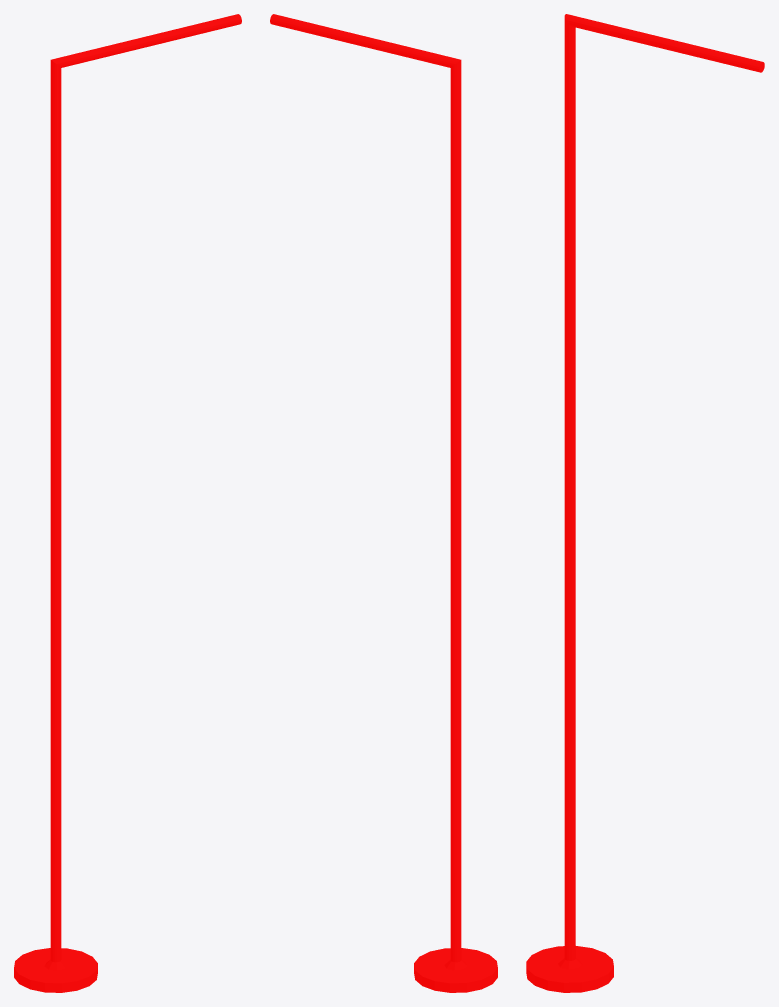
Rendered from Stange.fbx.
The picture shows the model from 3 angles, left to right: view 1: azimuth 30°, elevation 25°; view 2: azimuth 150°, elevation 25°; view 3: azimuth 330°, elevation 25°; orthographic projection. The views are drawn at different scales.
Parts seen in each view (by area): view 1: Stange; view 2: Stange; view 3: Stange.
Boxes of the visible parts, <box> form: Stange: <box>14,14,241,992</box>; Stange: <box>270,14,497,992</box>; Stange: <box>526,14,764,992</box>.
Bounding box in the file's own units: 48 × 191 × 16.
